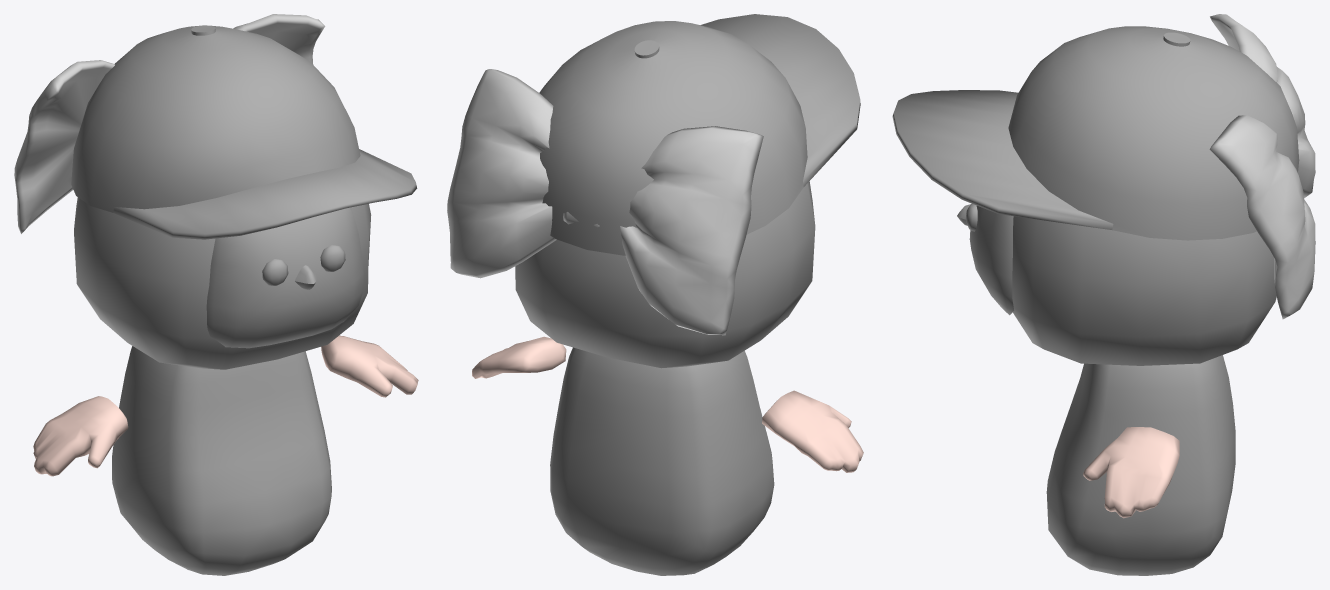
The model's file is FBX_Dummy.FBX.
The picture shows the model from 3 angles, left to right: view 1: azimuth 30°, elevation 25°; view 2: azimuth 150°, elevation 25°; view 3: azimuth 270°, elevation 25°; orthographic projection.
Parts seen in each view (by area): view 1: Cap, Body, Head, Mask, Bowtie, Right_Hand, Left_Hand, Eyes; view 2: Cap, Body, Bowtie, Head, Right_Hand, Left_Hand; view 3: Cap, Head, Body, Bowtie, Left_Hand, Mask.
Boxes of the visible parts, x1=… form: Cap: x1=71, y1=25, x2=417, y2=239; Body: x1=112, y1=346, x2=331, y2=575; Head: x1=74, y1=197, x2=371, y2=369; Mask: x1=206, y1=207, x2=363, y2=348; Bowtie: x1=14, y1=14, x2=325, y2=233; Right_Hand: x1=33, y1=396, x2=128, y2=476; Left_Hand: x1=321, y1=335, x2=418, y2=397; Eyes: x1=262, y1=245, x2=345, y2=285; Cap: x1=539, y1=14, x2=860, y2=255; Body: x1=550, y1=347, x2=774, y2=575; Bowtie: x1=447, y1=69, x2=763, y2=335; Head: x1=515, y1=181, x2=815, y2=368; Right_Hand: x1=762, y1=390, x2=863, y2=472; Left_Hand: x1=472, y1=336, x2=566, y2=378; Cap: x1=892, y1=26, x2=1299, y2=240; Head: x1=1012, y1=216, x2=1276, y2=365; Body: x1=1046, y1=355, x2=1235, y2=575; Bowtie: x1=1209, y1=14, x2=1315, y2=319; Left_Hand: x1=1083, y1=427, x2=1179, y2=518; Mask: x1=969, y1=206, x2=1013, y2=315.
Bounding box in the file's own units: 152 × 201 × 146.
